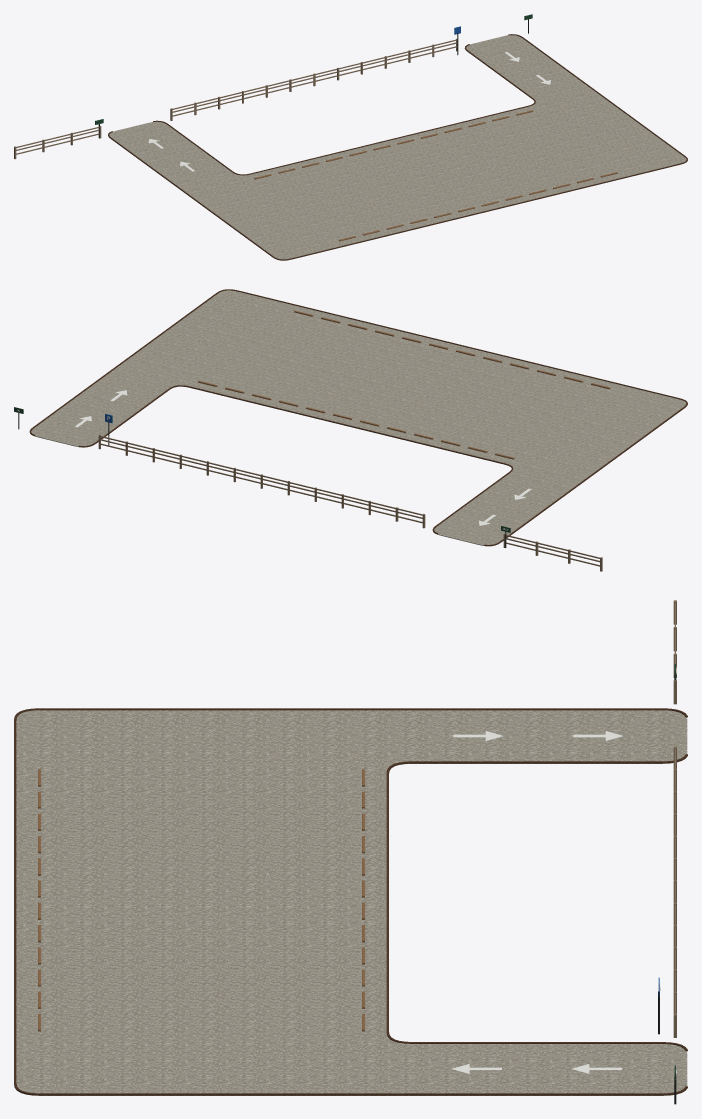
Rendered from parking_lot_l1.gltf.
3 renders of one model, top to bottom at view 1: azimuth 30°, elevation 25°; view 2: azimuth 150°, elevation 25°; view 3: azimuth 270°, elevation 25°, orthographic. The views are drawn at different scales.
Visible parts, largest first — view 1: BASE; view 2: BASE; view 3: BASE.
Part boxes in pixels (x1,y1,x2,y2): BASE: (14,14,687,260); BASE: (14,289,687,571); BASE: (14,600,687,1104).
Size of the model in its own units: 56.63 by 2.92 by 33.29.
Materials: 9 (1 with a texture image).
